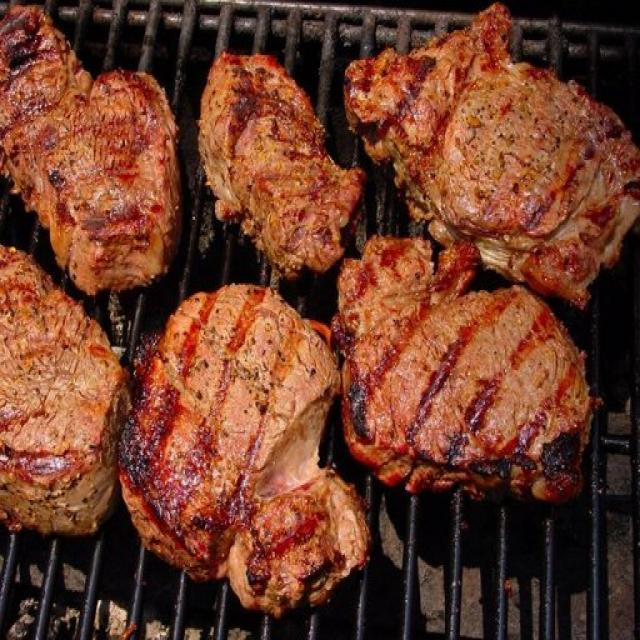Steak: (131, 289, 350, 609), (379, 23, 640, 269), (349, 230, 587, 488), (5, 14, 174, 274), (5, 248, 133, 544), (200, 57, 355, 259)
